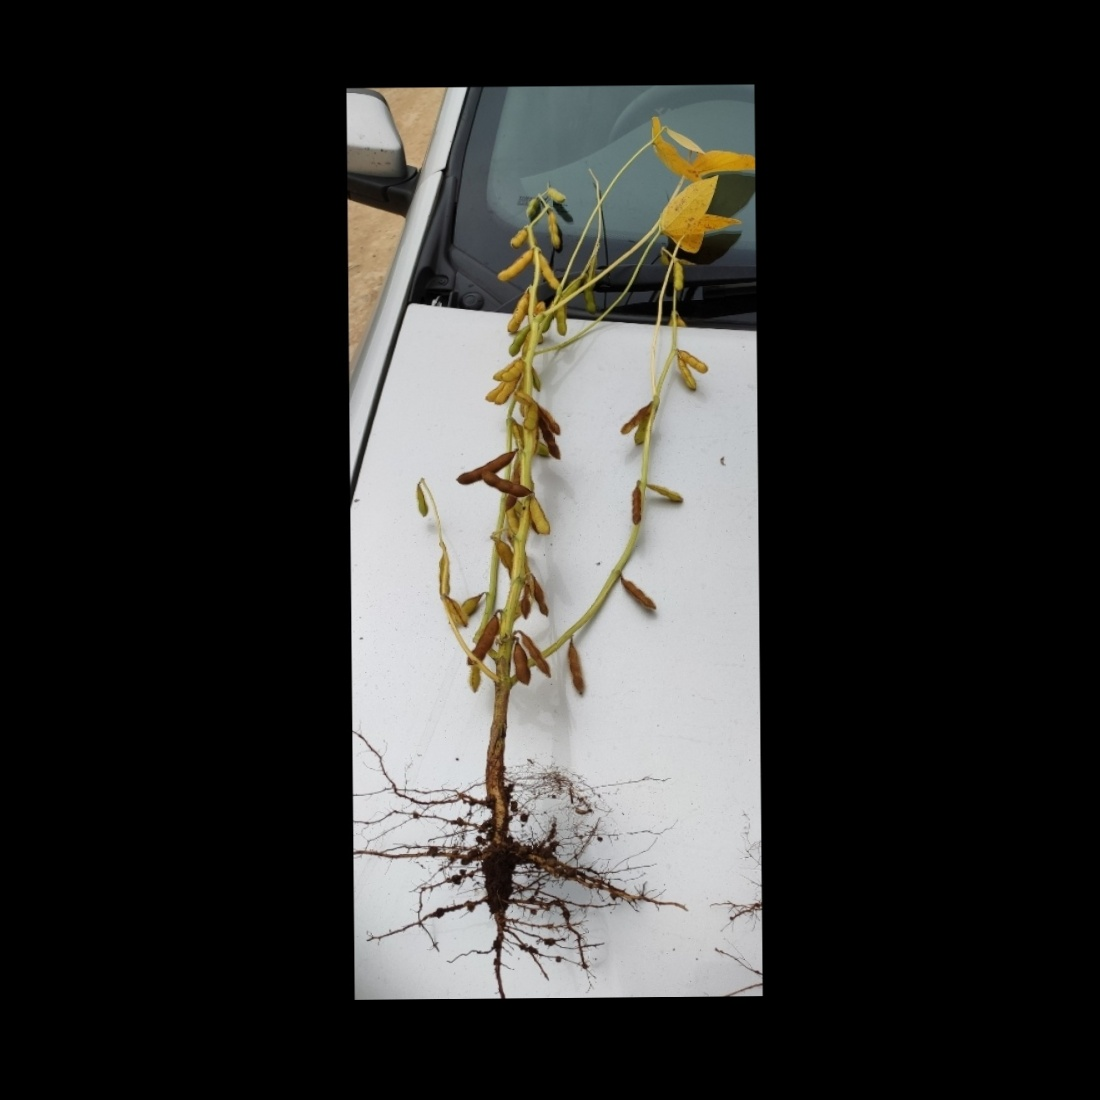pod: (455, 443, 522, 487), (489, 242, 544, 287), (465, 613, 507, 668), (566, 626, 593, 703), (478, 467, 537, 499), (616, 574, 657, 618), (505, 633, 535, 689), (506, 288, 537, 340), (634, 477, 686, 507), (671, 346, 712, 379), (544, 200, 563, 256), (667, 258, 693, 296), (525, 500, 551, 535), (498, 358, 530, 383), (409, 480, 429, 521), (625, 483, 642, 529), (522, 191, 539, 223)
soy: (392, 170, 713, 952)
